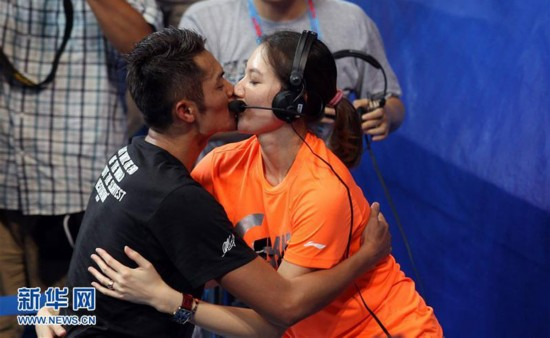face: (236, 43, 283, 134), (196, 56, 237, 133)
